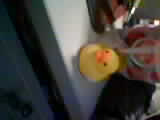duck: (69, 31, 122, 96)
